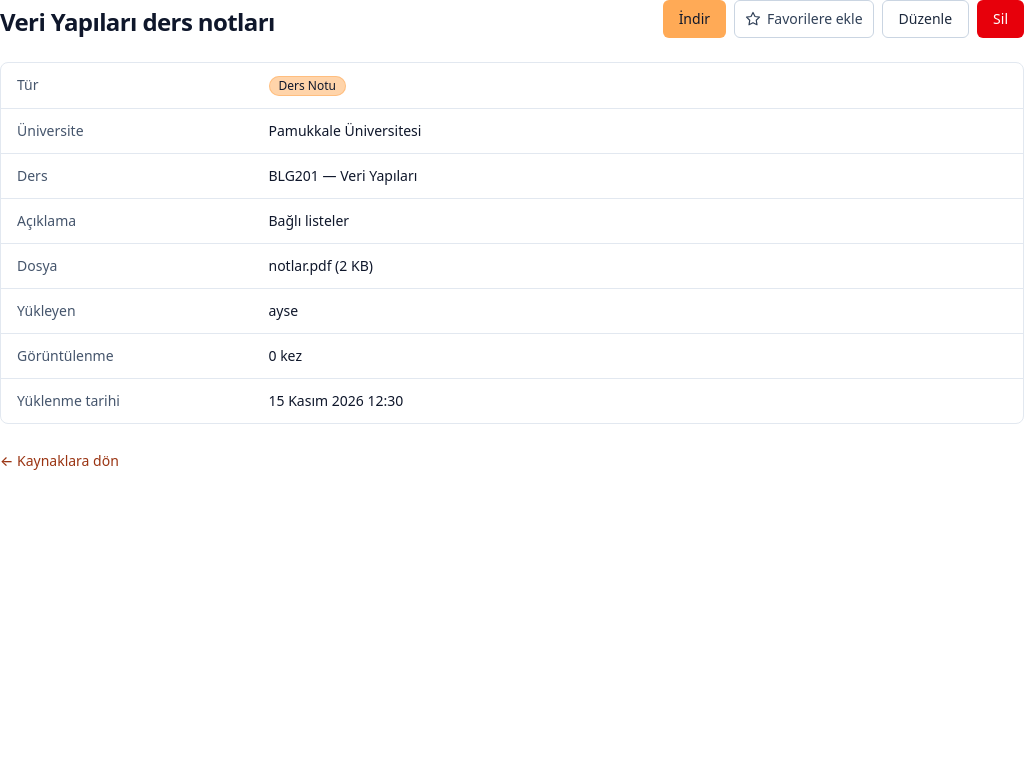
Scenario: ResourceDetailPage role-based actions › keeps the dialog open and shows 403 errors
Click the button "Sil": coordinates (1001, 19) [977,0,1023,38]
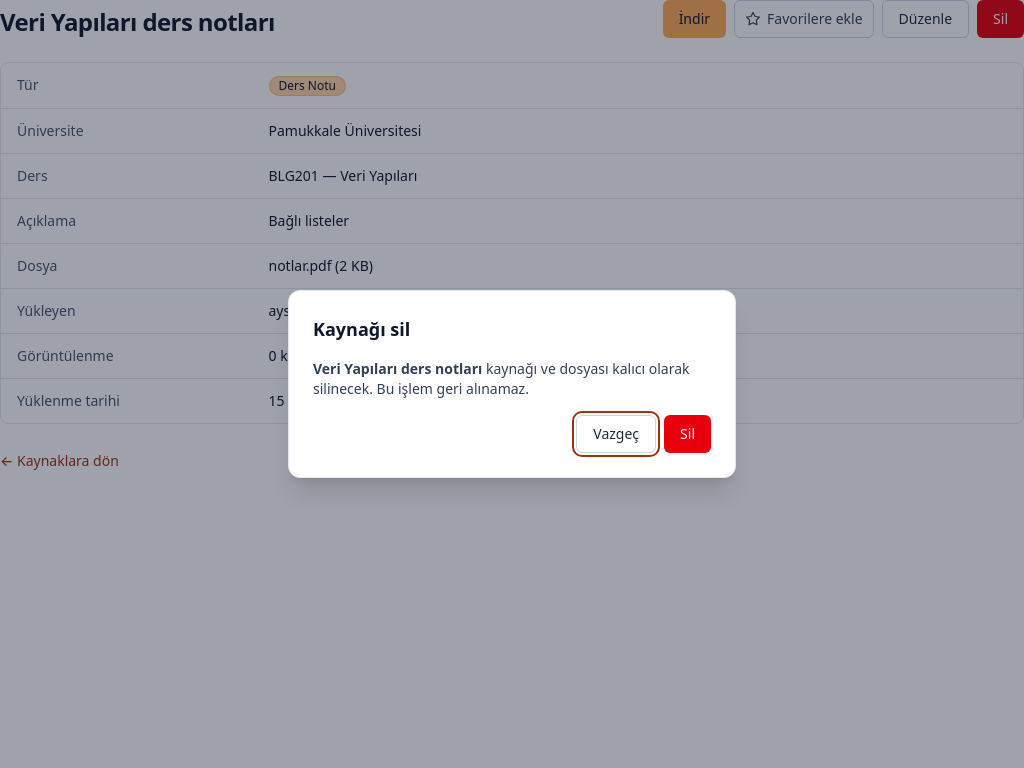
Click the button "Sil" below "Kaynağı sil": coordinates (688, 434) [664,415,711,453]
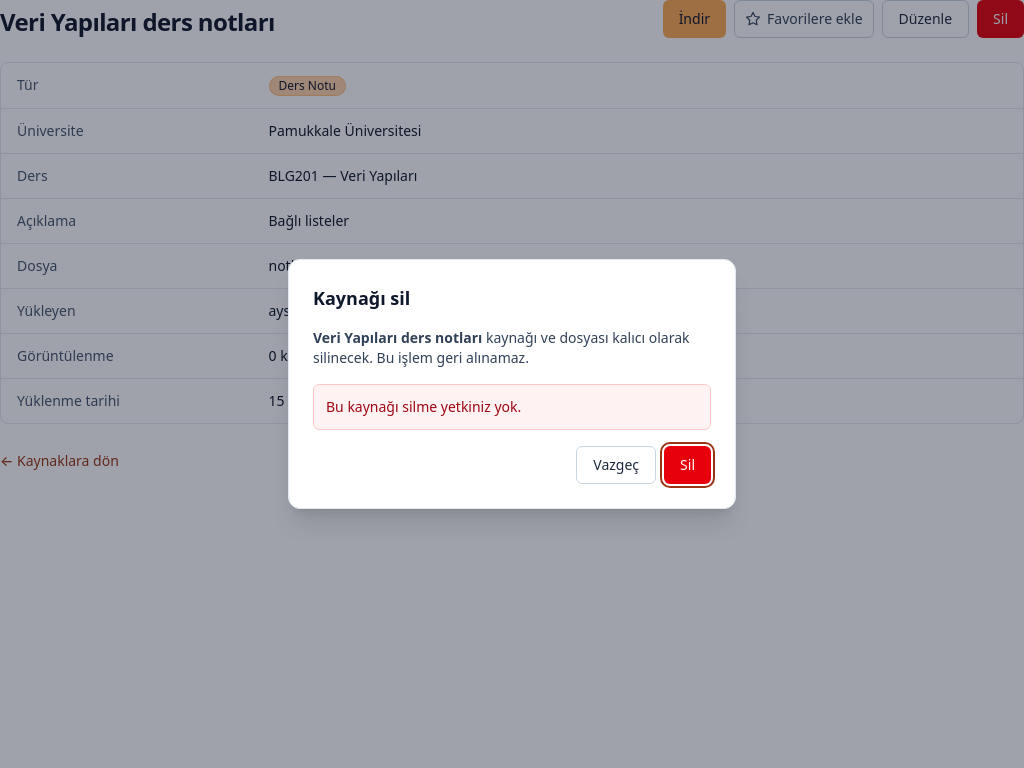
expect the message reads "Bu kaynağı silme yetkiniz yok.": met, box [326,397,521,416]
